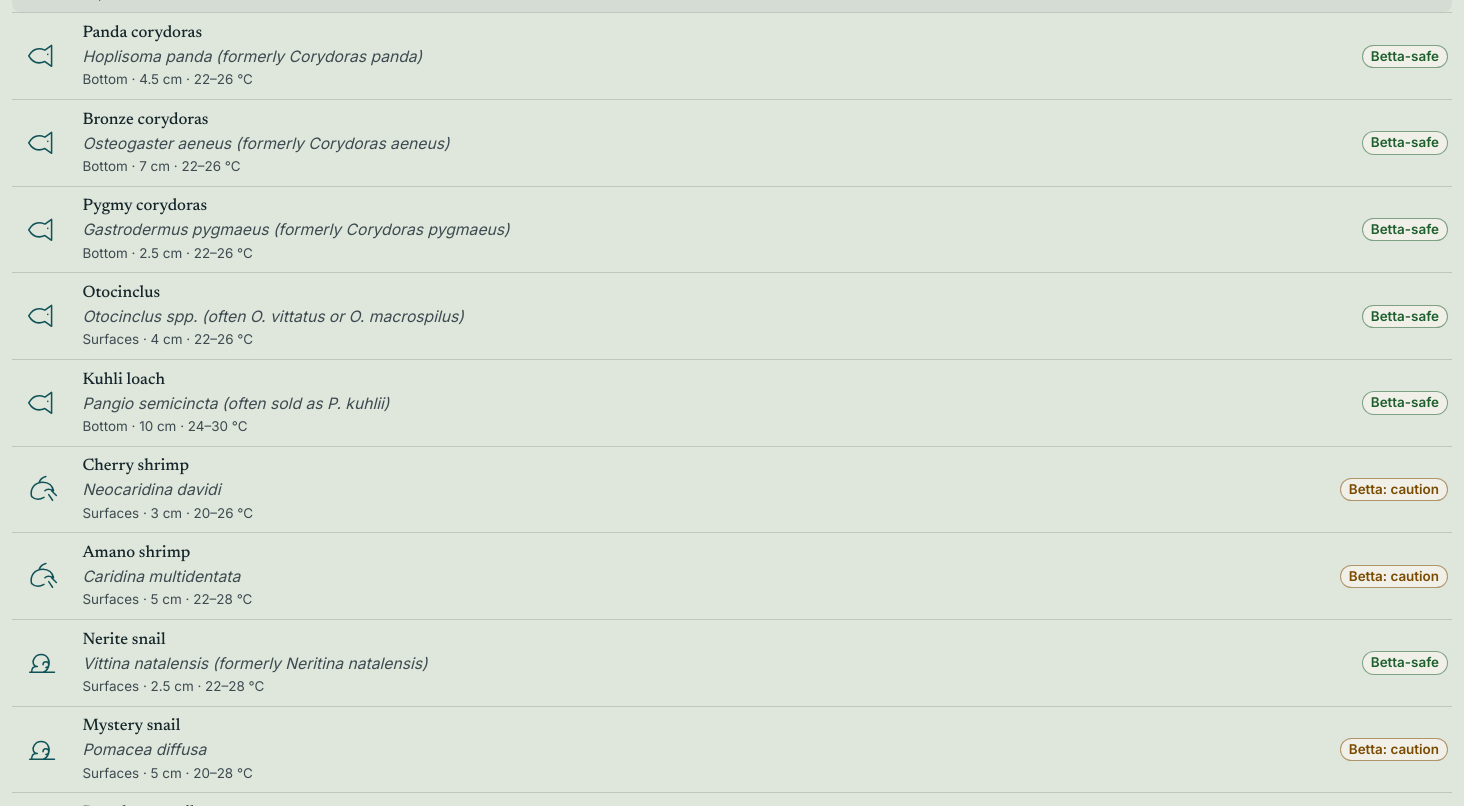
Test: learn › shows stocking basics and the catalog, and a species page
(page scrolled)
Click the link "Kuhli loach".
click(43, 403)  # box [12,360,1452,446]
(page scrolled)
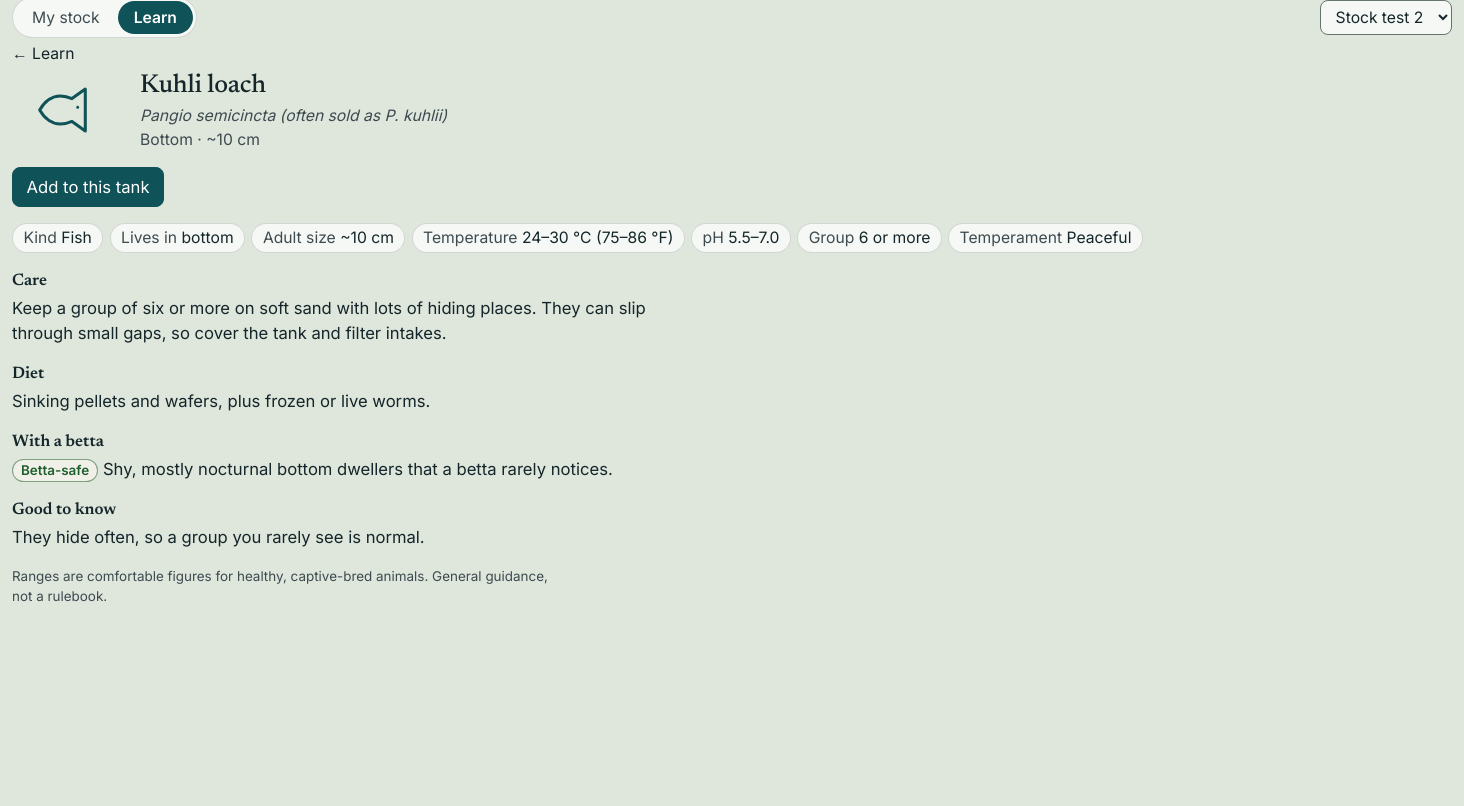
Expected: the heading "Kuhli loach" is shown, [140,73,266,99]
Expected: the button "Add to this tank" is shown, [12,167,164,207]
Expected: the text "24–30 °C (75–86 °F)" is shown, [522,228,674,247]
